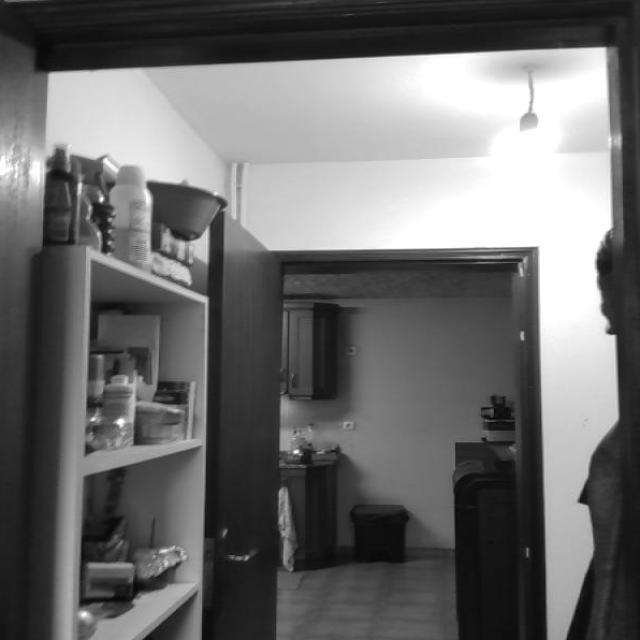door: (196, 196, 289, 640)
